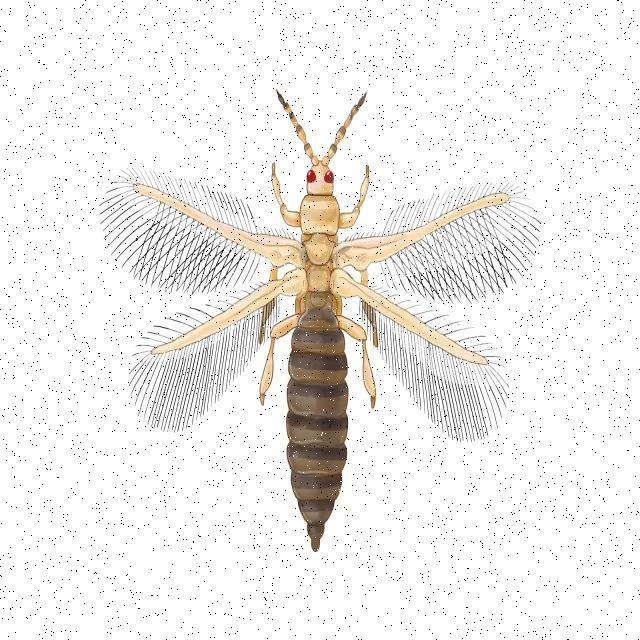Thrips: (173, 32, 500, 559)
